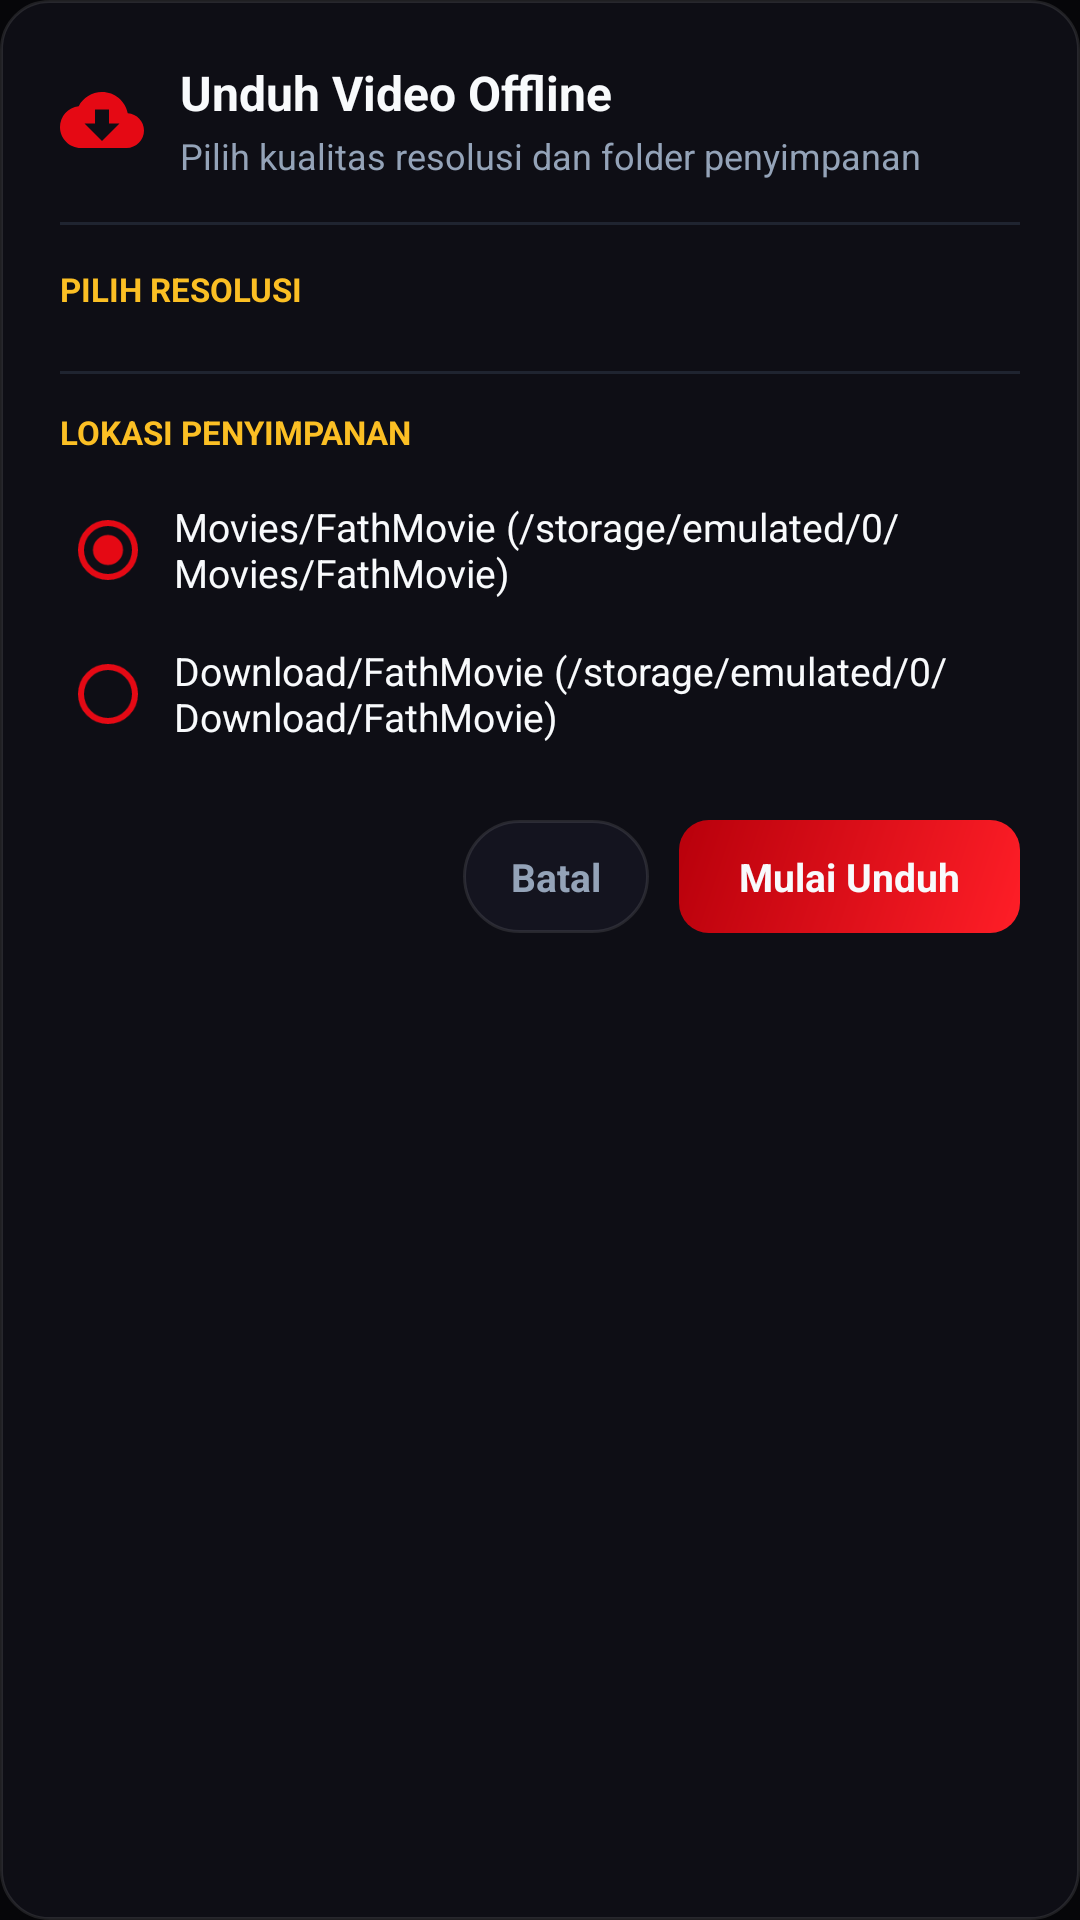

Locate icon controls on the screen. Image size 1080px x 1920px, boxes as (x1, y1, x2, y2).
download: (60, 92, 144, 148)
